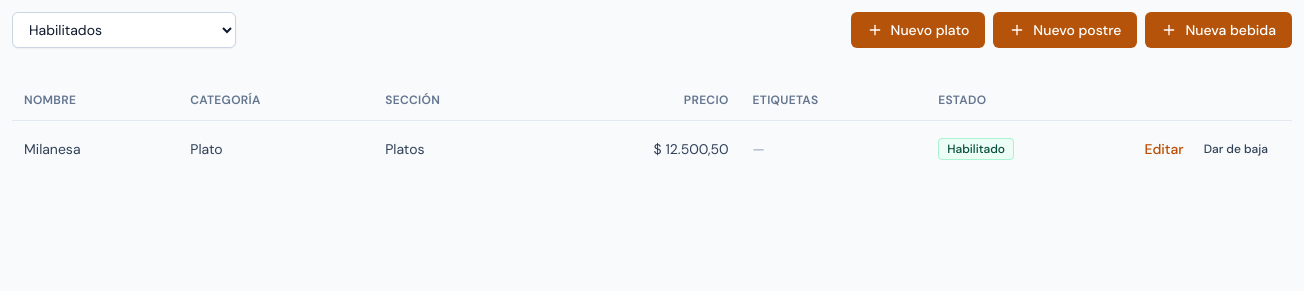
ProductosTab: paginación, baja y alta › al dar de baja desde la fila recarga la lista
The image size is (1304, 291).
Click the button with aria-label "Dar de baja «Milanesa»" at (1236, 148), box [1192,132,1280,164]
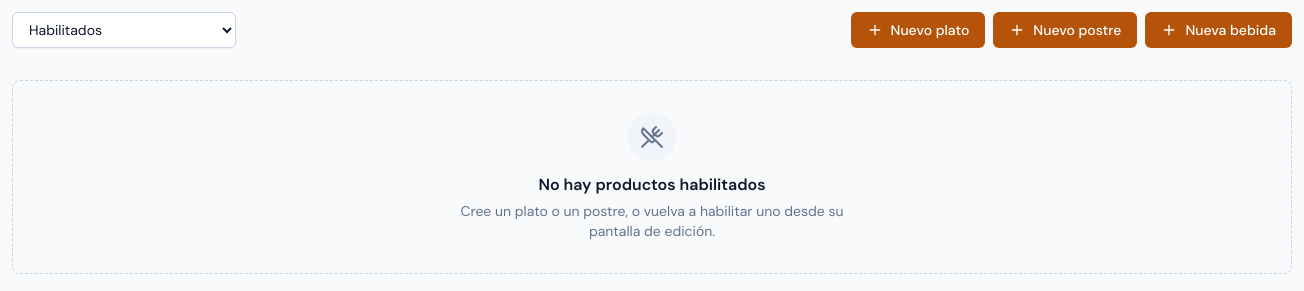
Now the heading "No hay productos habilitados" is shown, box [538,173,766,197]
